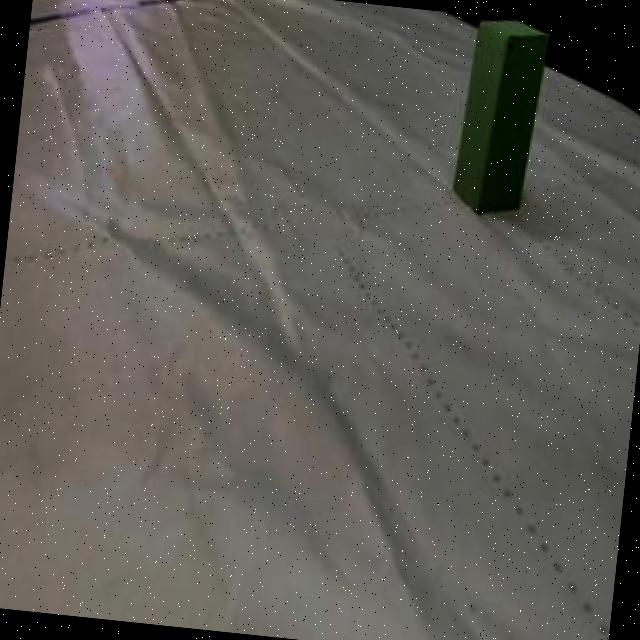greenbox: (446, 14, 552, 218)
